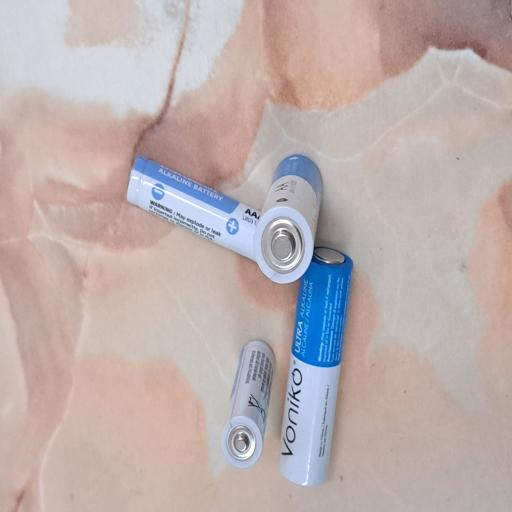battery: (21, 370, 200, 470), (185, 164, 268, 346), (170, 339, 269, 433), (32, 296, 131, 369)
